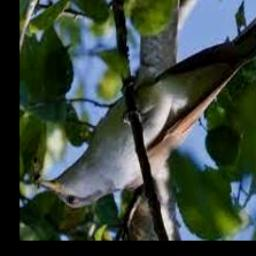Cuckoo: (41, 0, 256, 210)
